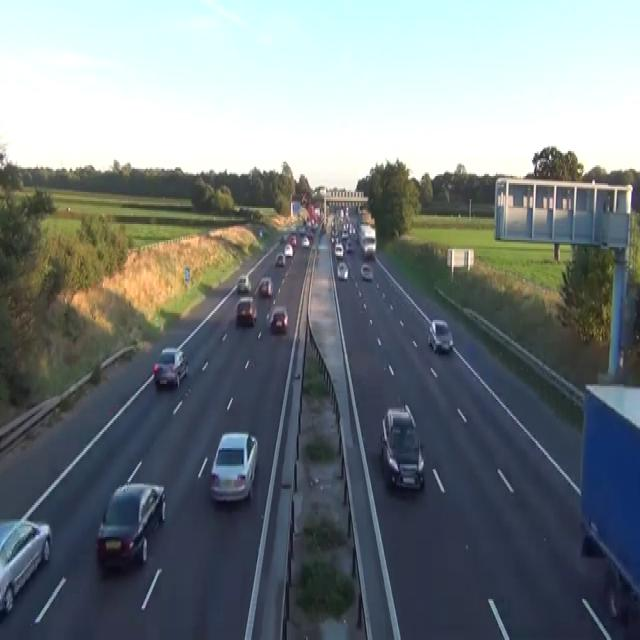Car: (96, 482, 166, 570), (0, 517, 52, 615), (380, 402, 424, 491), (209, 430, 258, 503), (604, 566, 638, 620), (153, 347, 188, 388), (428, 318, 453, 352), (153, 359, 178, 388), (235, 295, 257, 325), (268, 304, 288, 332), (258, 275, 273, 297), (361, 236, 376, 256), (237, 274, 251, 293), (336, 261, 348, 279), (360, 263, 373, 279), (274, 252, 285, 266), (334, 242, 343, 258), (284, 242, 293, 256), (345, 240, 354, 252), (330, 231, 338, 244), (301, 237, 309, 247), (341, 229, 348, 240), (289, 235, 296, 245), (305, 230, 313, 238), (279, 234, 286, 243), (298, 226, 305, 234), (301, 196, 306, 204), (259, 228, 262, 236)
Truck: (579, 380, 639, 620)
